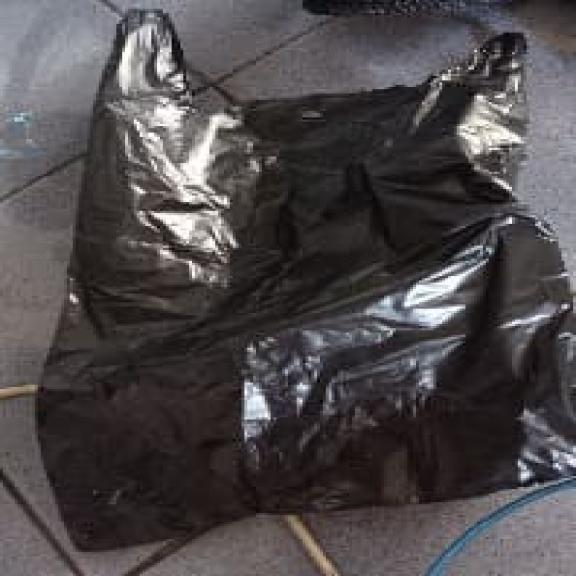Plastik: (36, 11, 573, 550)
